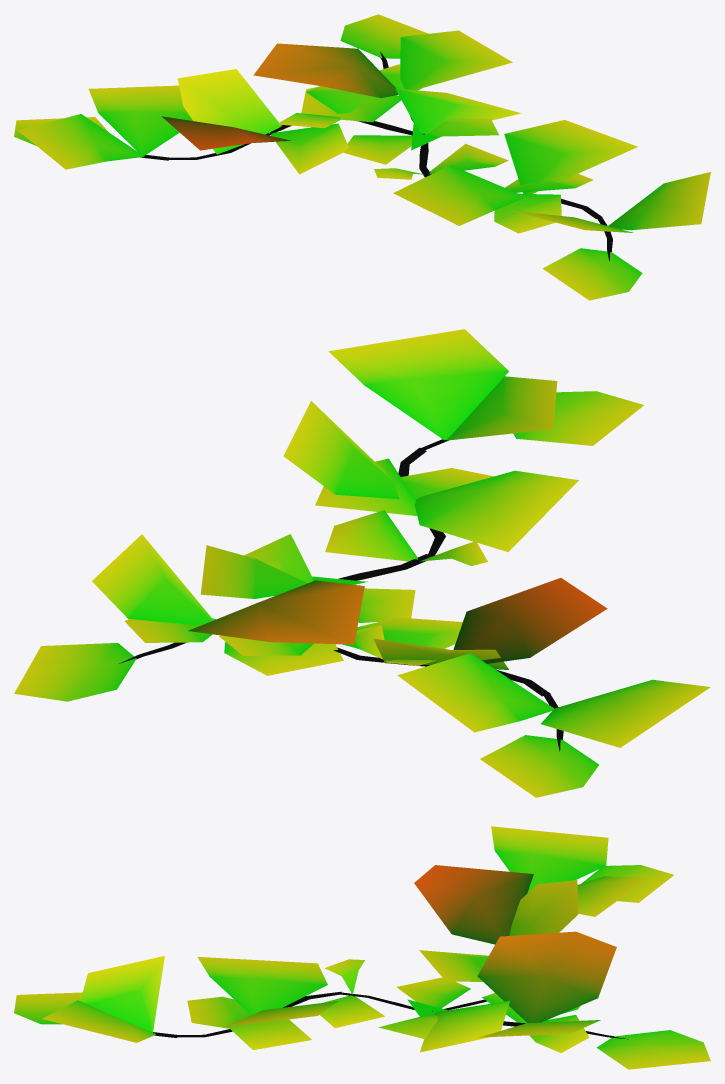
File: Var7_LOD1.fbx
3 renders of one model, top to bottom at view 1: azimuth 30°, elevation 25°; view 2: azimuth 150°, elevation 25°; view 3: azimuth 270°, elevation 25°, orthographic. The views are drawn at different scales.
Visible parts, largest first — view 1: _9889_Var7_LOD1; view 2: _9889_Var7_LOD1; view 3: _9889_Var7_LOD1.
Boxes of the visible parts, x1,y1,x2,y2 form: _9889_Var7_LOD1: (14, 14, 710, 300); _9889_Var7_LOD1: (14, 329, 710, 797); _9889_Var7_LOD1: (14, 826, 710, 1069).
Size of the model in its own units: 29.75 by 3.18 by 38.19.
